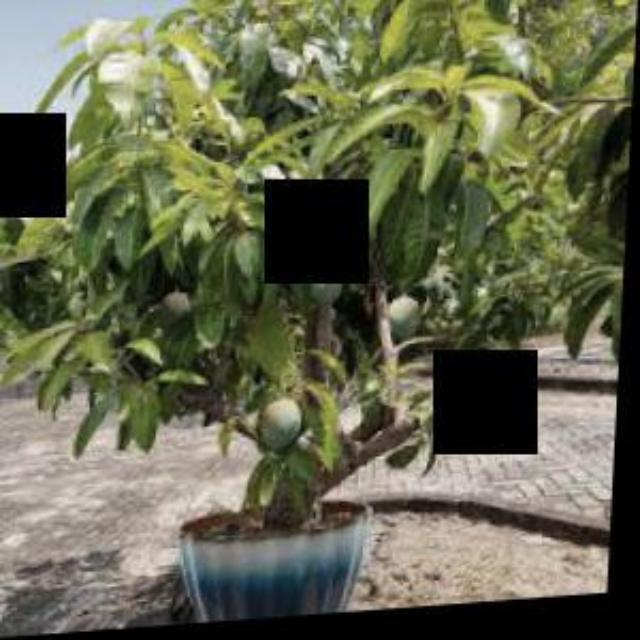tree: (1, 1, 626, 630)
